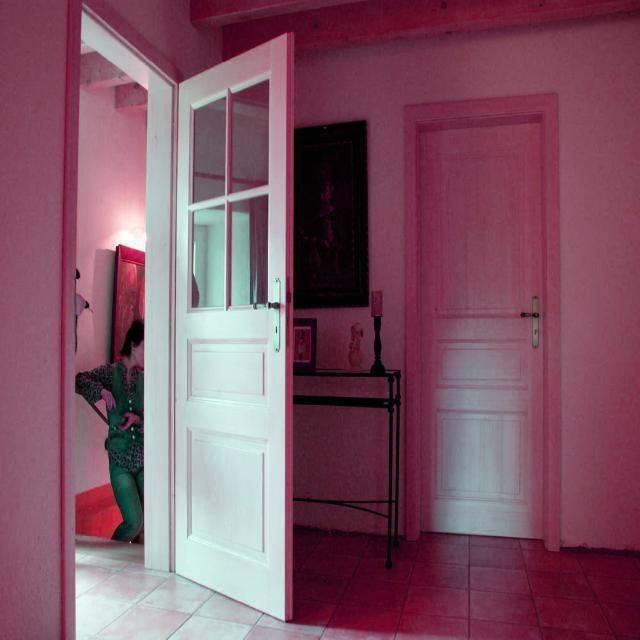door: (171, 31, 293, 621), (404, 93, 557, 543)
